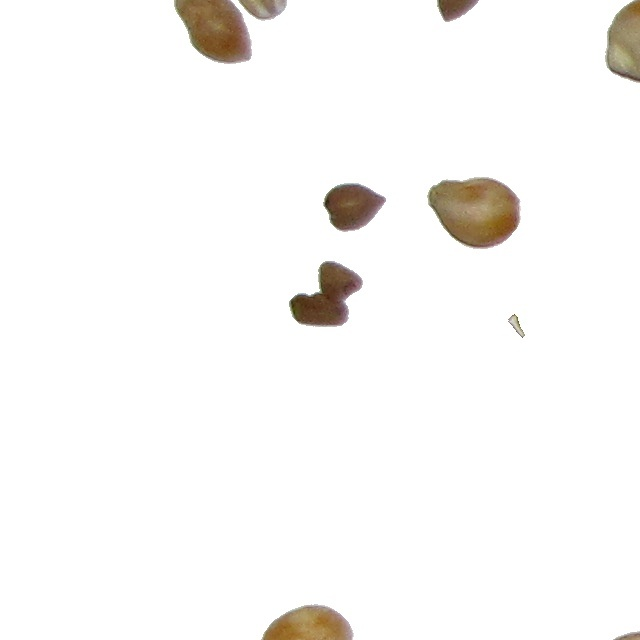buckwheat: (322, 182, 387, 233), (288, 284, 354, 328)
dill: (507, 313, 526, 339)
mais: (426, 176, 522, 250), (259, 603, 355, 640)
